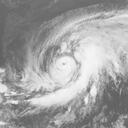cyclone: (30, 36, 95, 102)
